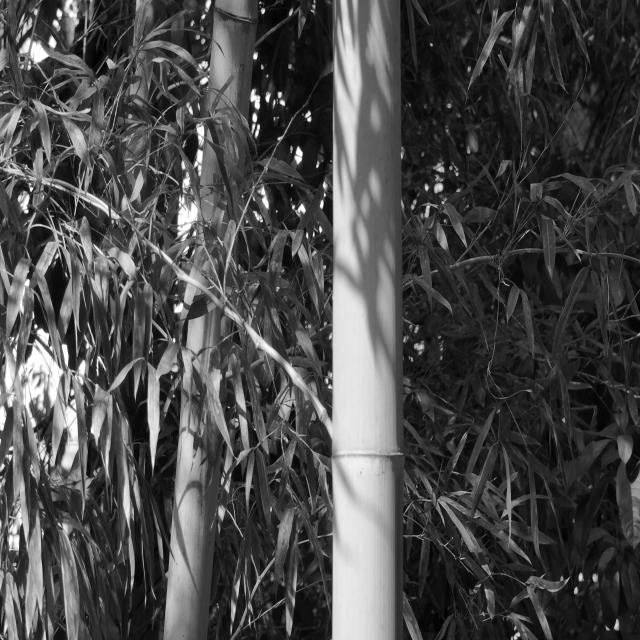Bamboo-shoots: (332, 0, 403, 640)
